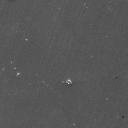corrosion: (65, 78, 72, 86), (121, 115, 126, 120), (16, 72, 20, 77)
